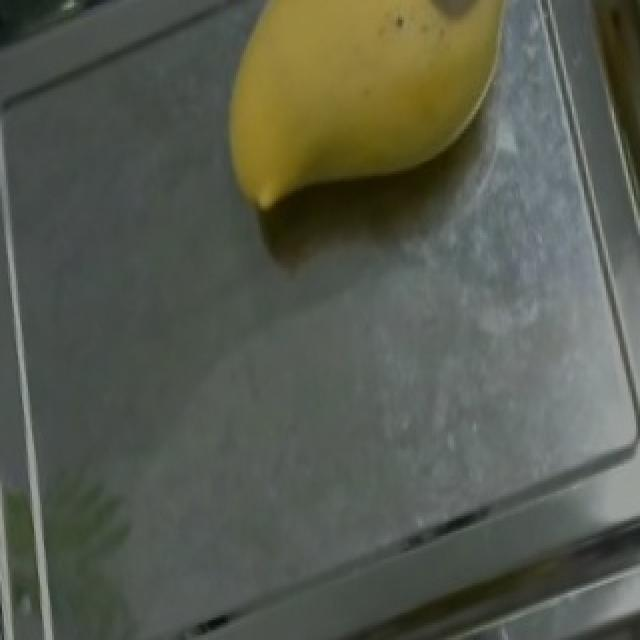fruit: (164, 0, 548, 231)
